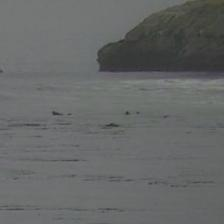surfer: (52, 110, 72, 116), (107, 122, 120, 127), (124, 111, 140, 115), (0, 68, 5, 75)
